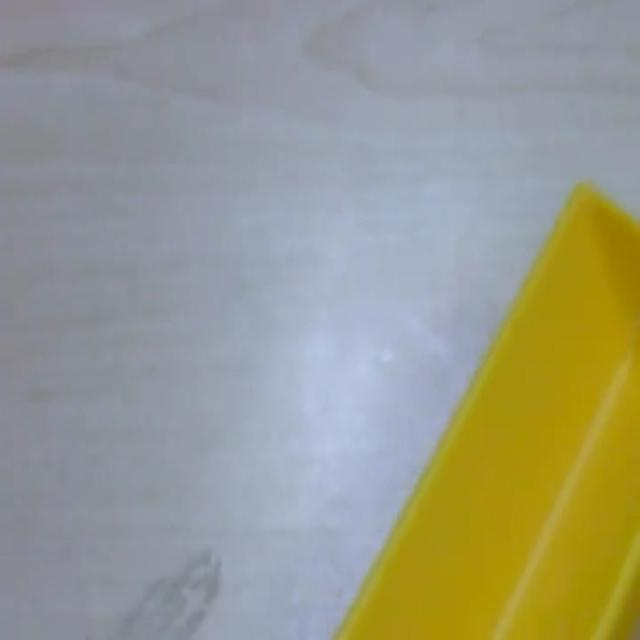yellow_block: (332, 179, 638, 637)
